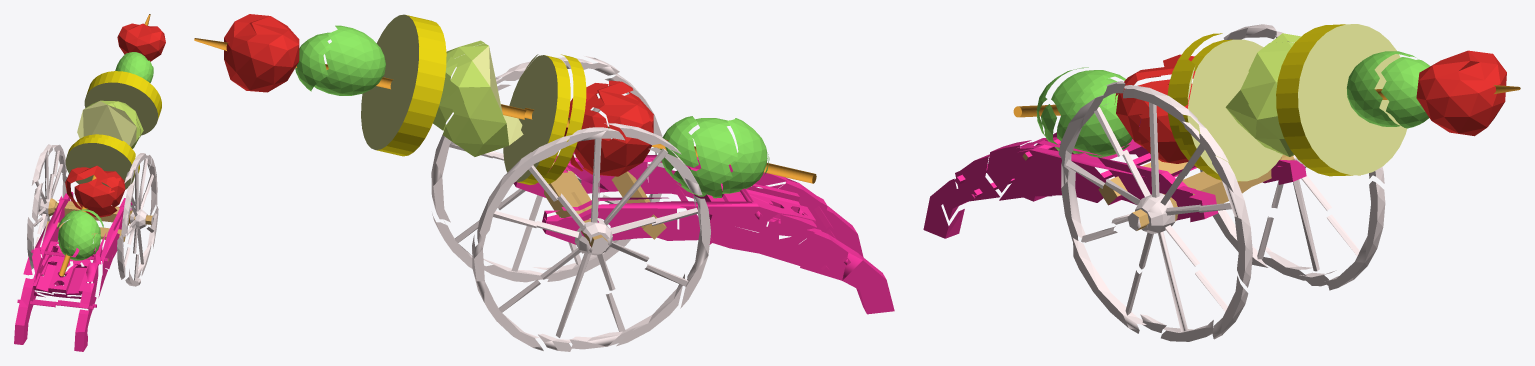
The model's file is fruitCannon-explosion.glb.
3 views of the same model, side by side, from view 1: azimuth 30°, elevation 25°; view 2: azimuth 150°, elevation 25°; view 3: azimuth 270°, elevation 25° (orthographic). The views are drawn at different scales.
Parts seen in each view (by area): view 1: Cylinder.035, Cylinder.032, Cylinder.009, Cylinder.044, Cylinder.010, Cylinder.067, Cylinder.029, Cylinder.004, Cylinder.043, Cylinder.006, Cylinder.005, Cylinder.025 (+29 smaller); view 2: Cylinder.035, Cylinder.028, Cylinder.044, Cylinder.009, Cylinder.004, Cylinder.043, Cylinder.006, Cylinder.037, Cylinder.024, Cylinder.029, Cylinder.034, Cylinder.032 (+36 smaller); view 3: Cylinder.035, Cylinder.028, Cylinder.044, Cylinder.007, Cylinder.025, Cylinder.005, Cylinder.003, Cylinder.018, Cylinder.006, Cylinder.019, Cylinder.045, Cylinder.037 (+24 smaller).
Part boxes in pixels (bbox=[...]): Cylinder.035: bbox=[84, 71, 161, 135]; Cylinder.032: bbox=[65, 137, 135, 189]; Cylinder.009: bbox=[77, 100, 139, 148]; Cylinder.044: bbox=[117, 23, 165, 61]; Cylinder.010: bbox=[33, 250, 90, 295]; Cylinder.067: bbox=[74, 178, 117, 217]; Cylinder.029: bbox=[58, 217, 95, 260]; Cylinder.004: bbox=[65, 165, 125, 209]; Cylinder.043: bbox=[14, 278, 37, 344]; Cylinder.006: bbox=[115, 52, 153, 82]; Cylinder.005: bbox=[101, 211, 121, 276]; Cylinder.025: bbox=[128, 153, 147, 228]; Cylinder.035: bbox=[361, 14, 446, 156]; Cylinder.028: bbox=[503, 55, 570, 184]; Cylinder.044: bbox=[224, 14, 299, 92]; Cylinder.009: bbox=[445, 43, 522, 156]; Cylinder.004: bbox=[574, 80, 653, 176]; Cylinder.043: bbox=[796, 228, 894, 314]; Cylinder.006: bbox=[314, 25, 385, 95]; Cylinder.037: bbox=[673, 118, 737, 198]; Cylinder.024: bbox=[679, 212, 814, 266]; Cylinder.029: bbox=[722, 118, 767, 193]; Cylinder.034: bbox=[598, 201, 754, 240]; Cylinder.032: bbox=[524, 54, 586, 183]; Cylinder.035: bbox=[1276, 24, 1406, 176]; Cylinder.028: bbox=[1177, 39, 1282, 181]; Cylinder.044: bbox=[1416, 50, 1506, 136]; Cylinder.007: bbox=[1241, 42, 1294, 156]; Cylinder.025: bbox=[1123, 85, 1198, 233]; Cylinder.005: bbox=[1016, 147, 1144, 202]; Cylinder.003: bbox=[1381, 57, 1430, 128]; Cylinder.018: bbox=[1069, 78, 1132, 155]; Cylinder.006: bbox=[1346, 51, 1415, 126]; Cylinder.019: bbox=[1212, 156, 1252, 287]; Cylinder.045: bbox=[1132, 79, 1192, 163]; Cylinder.037: bbox=[1051, 70, 1130, 157].
Bounding box in the file's own units: 7.91 × 5.25 × 7.86.
